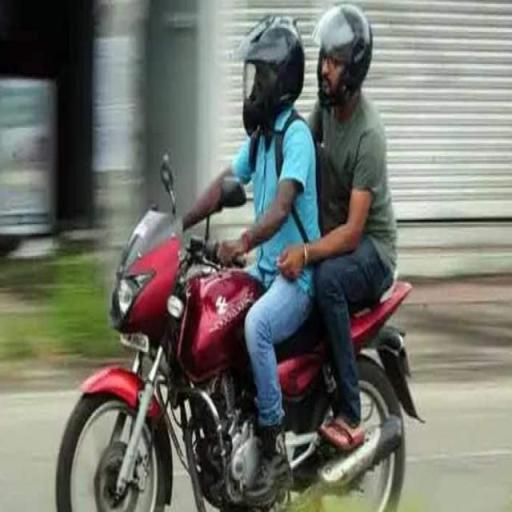Helmet: (238, 16, 304, 135), (313, 4, 372, 105)
Motor: (58, 186, 428, 512)
